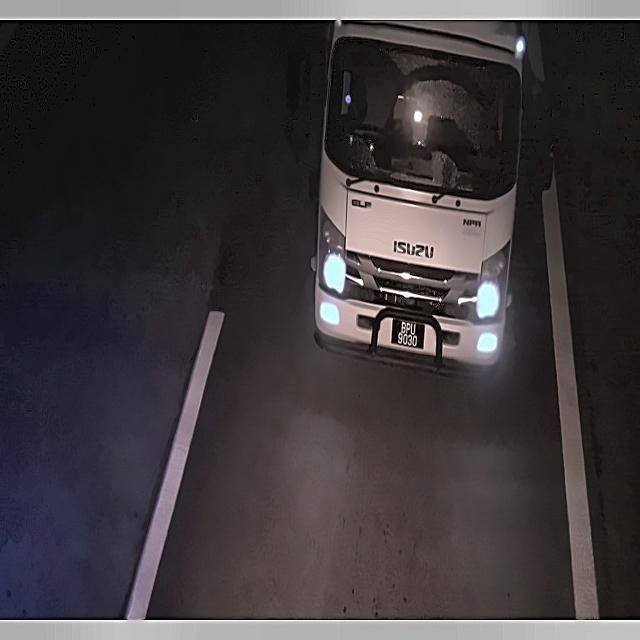car: (386, 311, 428, 359)
